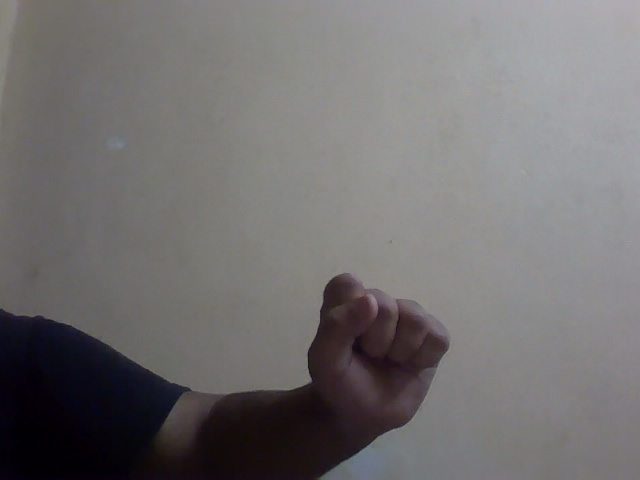Yes: (264, 253, 490, 460)
